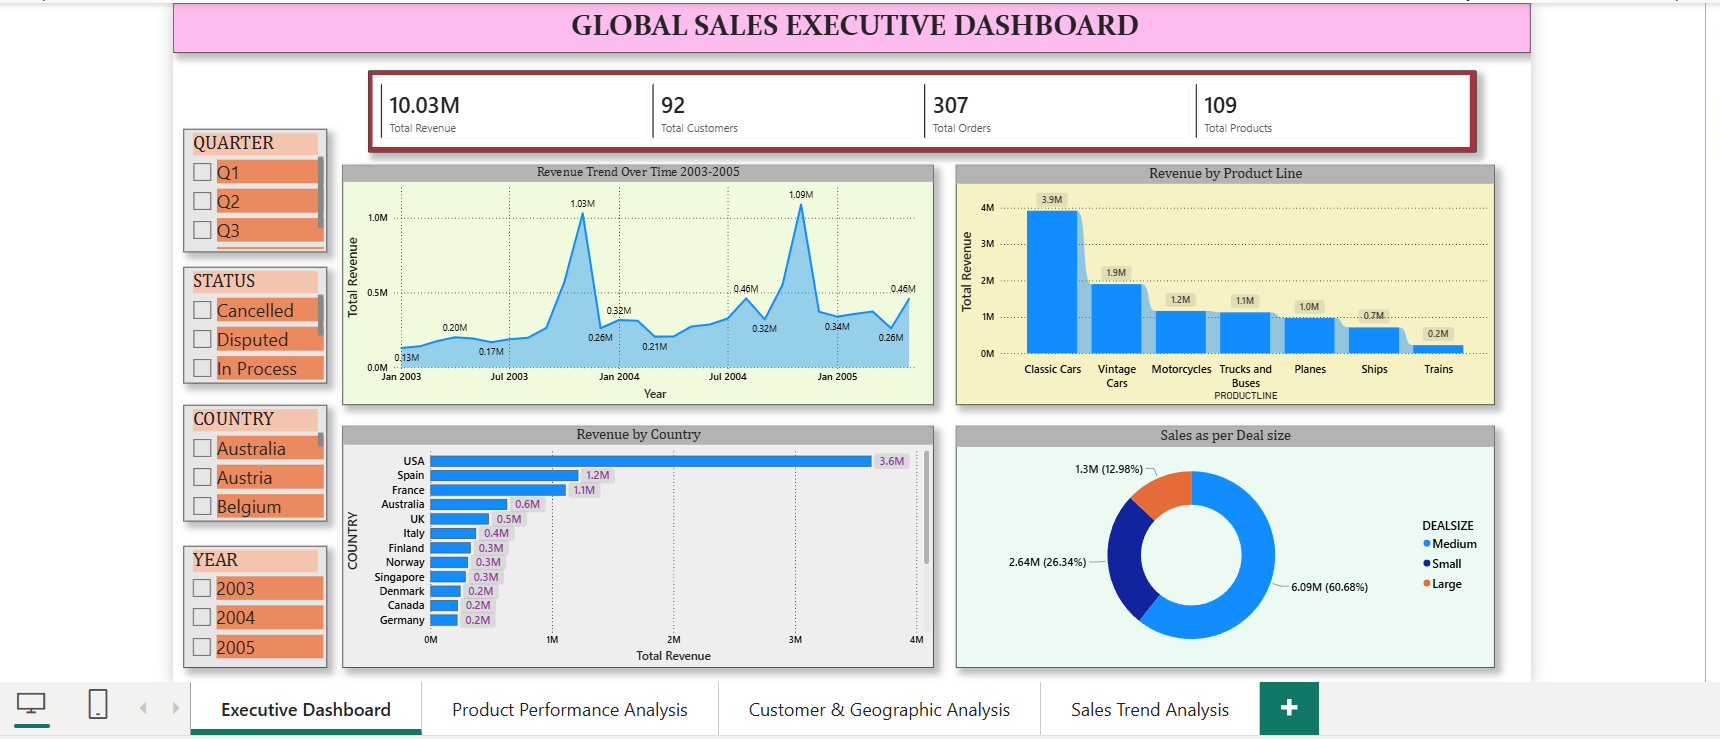

The dashboard page shown, as its layout file describes it:
{"tool":"powerbi","page":{"name":"Executive Dashboard","canvas":[2000,1000],"ordinal":0},"visuals":[{"type":"textbox","box":[0,0,1999.2,73.3],"z":0},{"type":"cardVisual","fields":{"Data":["global_sales_cleaned.Total Revenue","global_sales_cleaned.Total Customers","global_sales_cleaned.Total Orders","global_sales_cleaned.Total Products"]},"box":[286.3,99.4,1632.5,120.7],"z":1000},{"type":"lineChart","title":"Revenue Trend Over Time 2003-2005","fields":{"Y":["global_sales_cleaned.Total Revenue"],"Category":["global_sales_cleaned.YEAR_MONTH.Variation.Date Hierarchy.Year","global_sales_cleaned.YEAR_MONTH.Variation.Date Hierarchy.Month"]},"box":[249.6,238.6,870.4,353.5],"z":2000},{"type":"clusteredBarChart","title":" Revenue by Country  ","fields":{"Category":["global_sales_cleaned.COUNTRY"],"Y":["global_sales_cleaned.Total Revenue"]},"box":[249.6,623,870.4,355.7],"z":3000},{"type":"columnChart","title":"Revenue by Product Line","fields":{"Y":["global_sales_cleaned.Total Revenue"],"Category":["global_sales_cleaned.PRODUCTLINE"]},"box":[1153.2,238.6,793.1,353.5],"z":4000},{"type":"donutChart","title":"Sales as per  Deal size","fields":{"Category":["global_sales_cleaned.DEALSIZE"],"Y":["Sum(global_sales_cleaned.SALES)"]},"box":[1153.2,623,793.1,355.7],"z":5000},{"type":"slicer","fields":{"Values":["global_sales_cleaned.QUARTER"]},"box":[14.9,186.5,211.4,181.5],"z":6000},{"type":"slicer","fields":{"Values":["global_sales_cleaned.STATUS"]},"box":[14.9,387.9,211.4,171.6],"z":7000},{"type":"slicer","fields":{"Values":["global_sales_cleaned.COUNTRY"]},"box":[14.9,591.8,211.4,171.6],"z":8000},{"type":"slicer","fields":{"Values":["global_sales_cleaned.YEAR"]},"box":[14.9,800.7,211.4,179],"z":9000}]}

Visuals, with their boxes on the page's 2000x1000 design canvas (x1, y1, x2, y2). These are canvas units, not pixel positions in the 1720x739 screenshot, which may show the page scaled, cropped or inside an application window:
textbox: 0 0 1999 73
cardVisual - global_sales_cleaned.Total Revenue x global_sales_cleaned.Total Customers: 286 99 1919 220
"Revenue Trend Over Time 2003-2005" lineChart: 250 239 1120 592
" Revenue by Country  " clusteredBarChart: 250 623 1120 979
"Revenue by Product Line" columnChart: 1153 239 1946 592
"Sales as per  Deal size" donutChart: 1153 623 1946 979
slicer - global_sales_cleaned.QUARTER: 15 186 226 368
slicer - global_sales_cleaned.STATUS: 15 388 226 560
slicer - global_sales_cleaned.COUNTRY: 15 592 226 763
slicer - global_sales_cleaned.YEAR: 15 801 226 980
